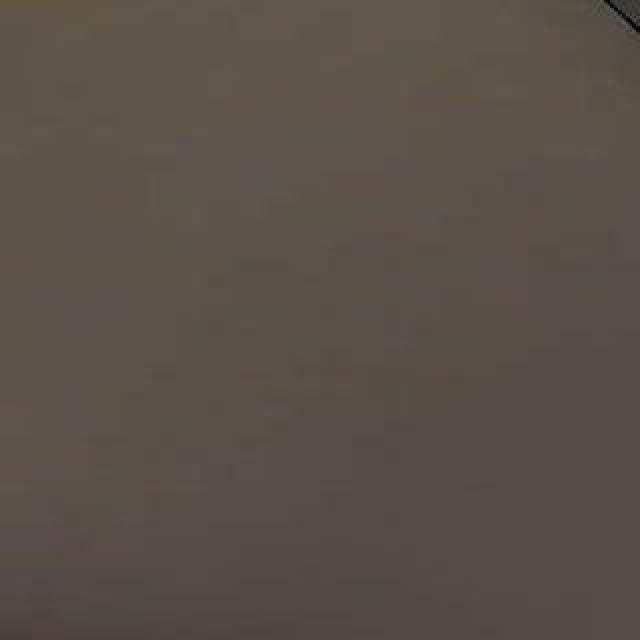fluorescent tube: (90, 0, 640, 18)
